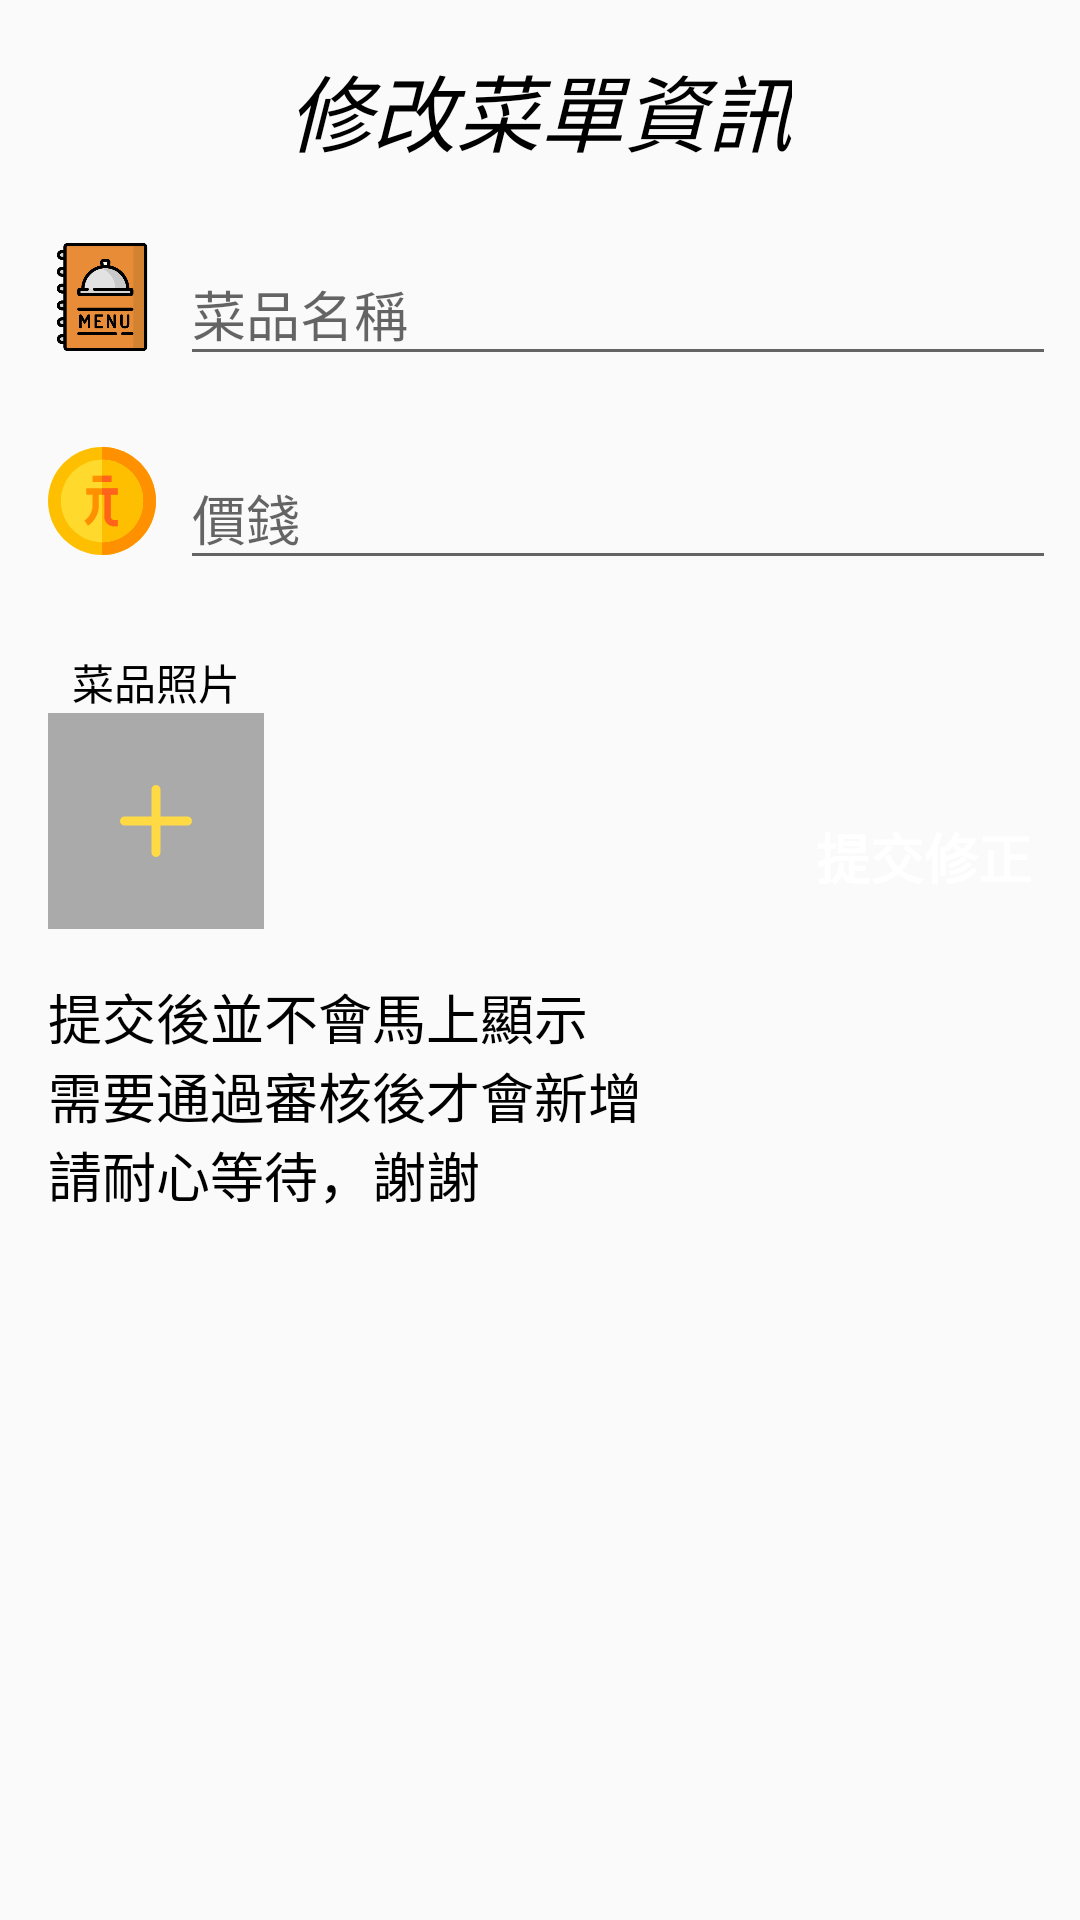

Screen size 1080*1920. Icon name, then its center in pixels as (x,y):
add: (156,821)
dollar: (102,501)
